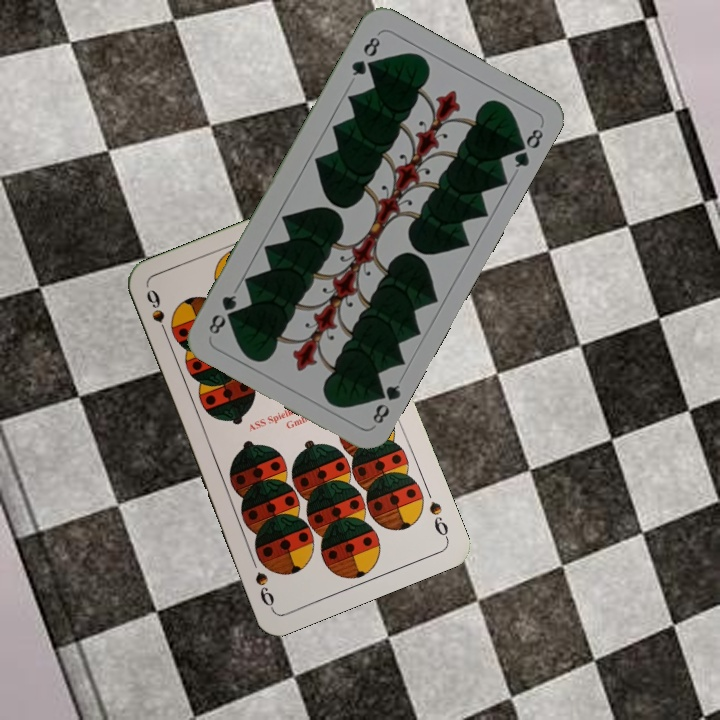G8: (347, 32, 383, 79), (368, 380, 404, 427)
S9: (142, 285, 172, 342), (425, 497, 451, 542)
